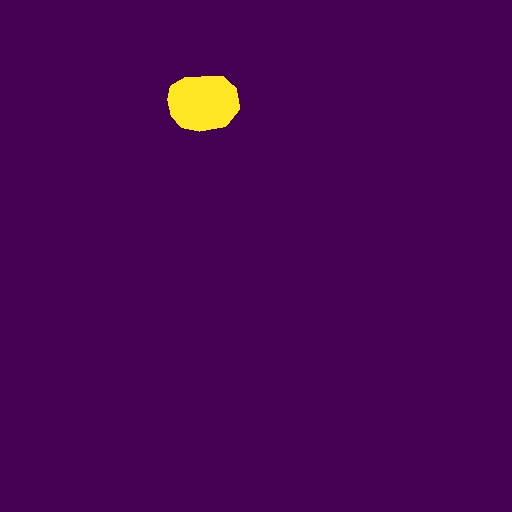Gliomia_tumour: (167, 76, 240, 132)
